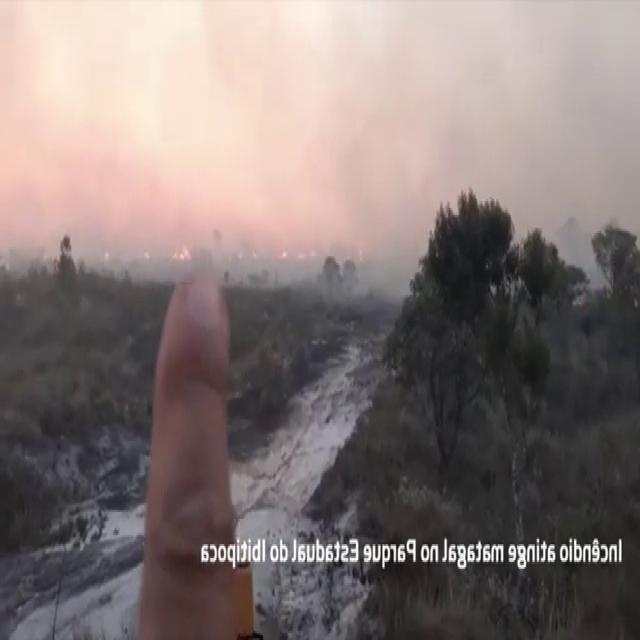Fire: (172, 239, 191, 262)
Smoke: (524, 32, 616, 191), (373, 220, 422, 288)
